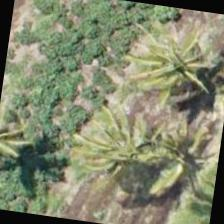Kelapa_Sawit: (86, 96, 188, 197), (134, 24, 223, 127)
